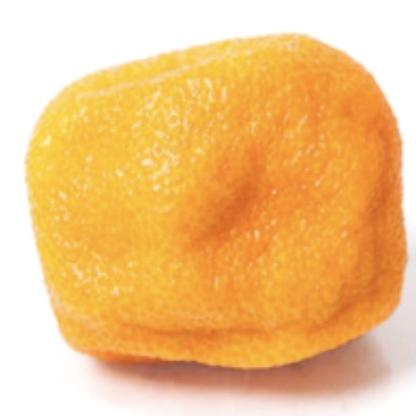rotten: (25, 36, 406, 376)
